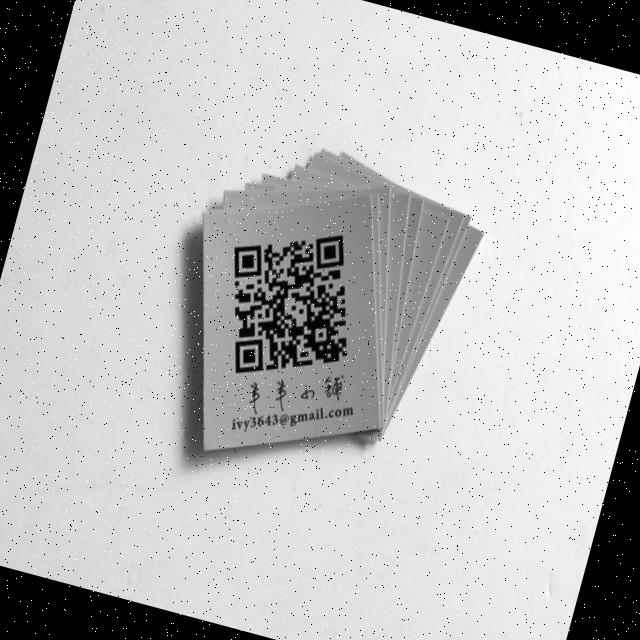QR-codes: (197, 201, 383, 397)
